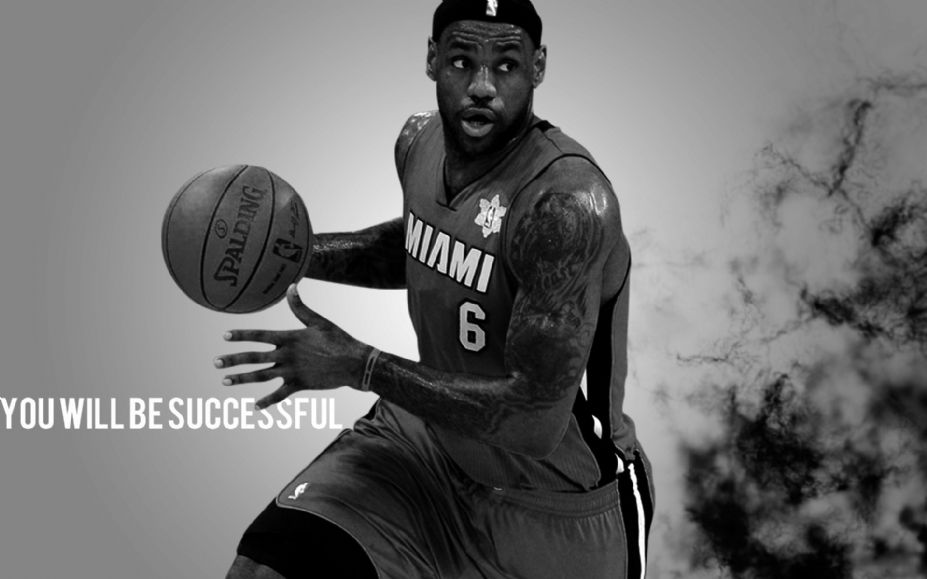ball: (159, 163, 316, 318)
